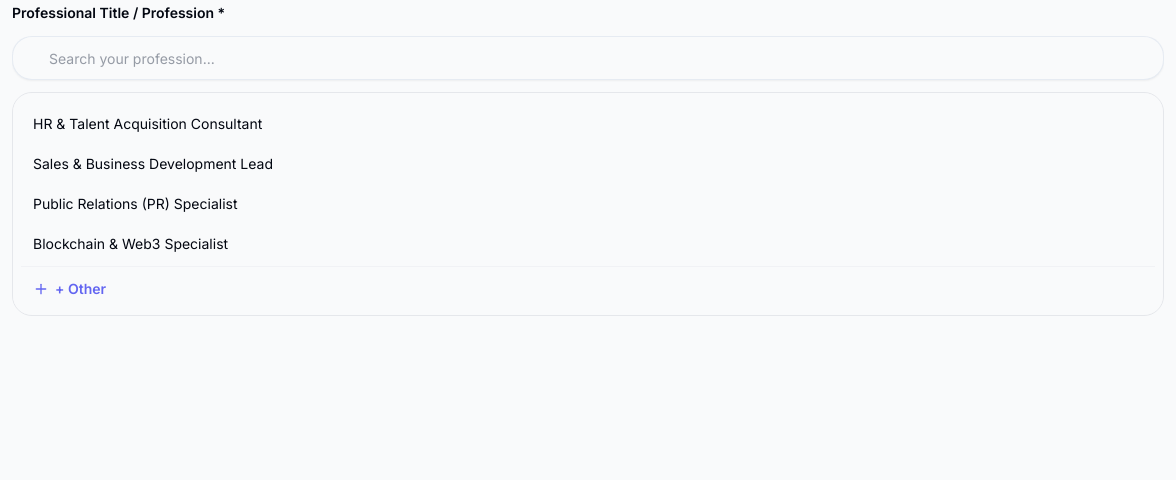
Test: ProfessionSelector Component Integration › opens custom profession input when "+ Other" is clicked
(page scrolled)
Click the button "+ Other": (81, 288) [21,271,1155,307]
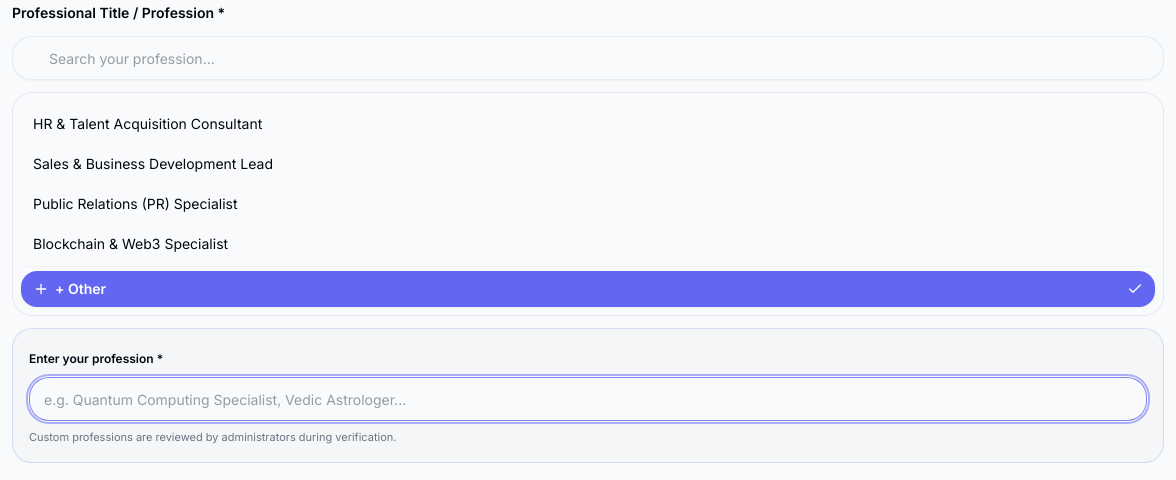
Check: the field with placeholder "e.g. Quantum Computing Specialist, Vedic Astrologer..." is shown, box [29,377,1147,421]
